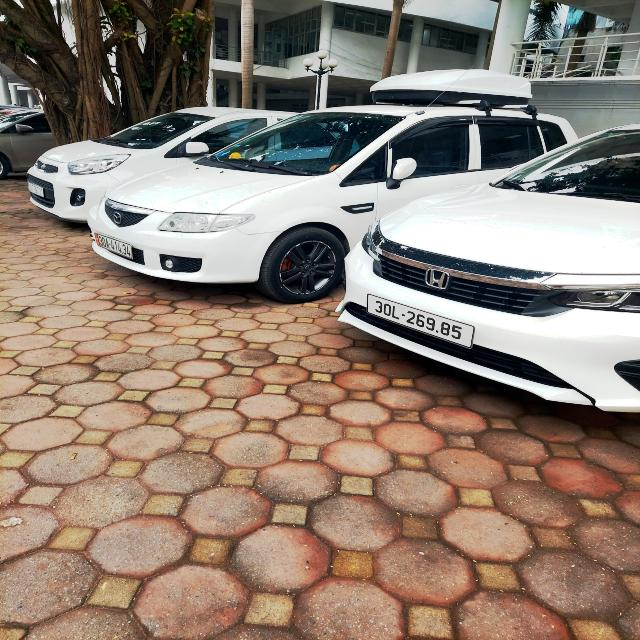license_plate: (368, 295, 475, 349), (95, 234, 134, 260)
